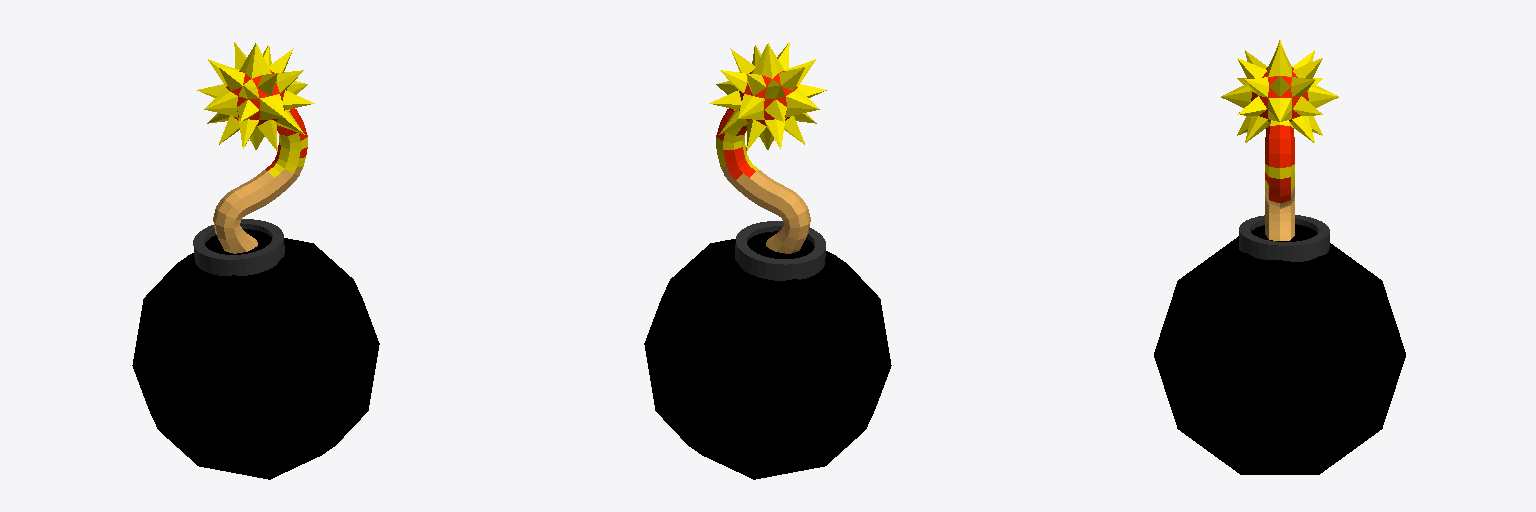
3 renders of one model, left to right at view 1: azimuth 30°, elevation 25°; view 2: azimuth 150°, elevation 25°; view 3: azimuth 270°, elevation 25°, orthographic.
Visible parts, largest first — view 1: Icosphere, Cube_Cube.002, Vert, Cylinder_Cylinder.001; view 2: Icosphere, Cube_Cube.002, Vert, Cylinder_Cylinder.001; view 3: Icosphere, Cube_Cube.002, Vert, Cylinder_Cylinder.001.
Boxes of the visible parts, x1,y1,x2,y2 form: Icosphere: [132, 238, 379, 479]; Cube_Cube.002: [197, 42, 314, 151]; Vert: [213, 108, 307, 253]; Cylinder_Cylinder.001: [193, 219, 284, 275]; Icosphere: [644, 239, 891, 479]; Cube_Cube.002: [709, 42, 826, 151]; Vert: [716, 108, 810, 253]; Cylinder_Cylinder.001: [735, 221, 825, 280]; Icosphere: [1154, 236, 1405, 474]; Cube_Cube.002: [1221, 40, 1338, 142]; Vert: [1265, 120, 1294, 240]; Cylinder_Cylinder.001: [1239, 215, 1329, 261].
Size of the model in its own units: 1.9 by 3.73 by 2.
Materials: 1 (1 with a texture image).